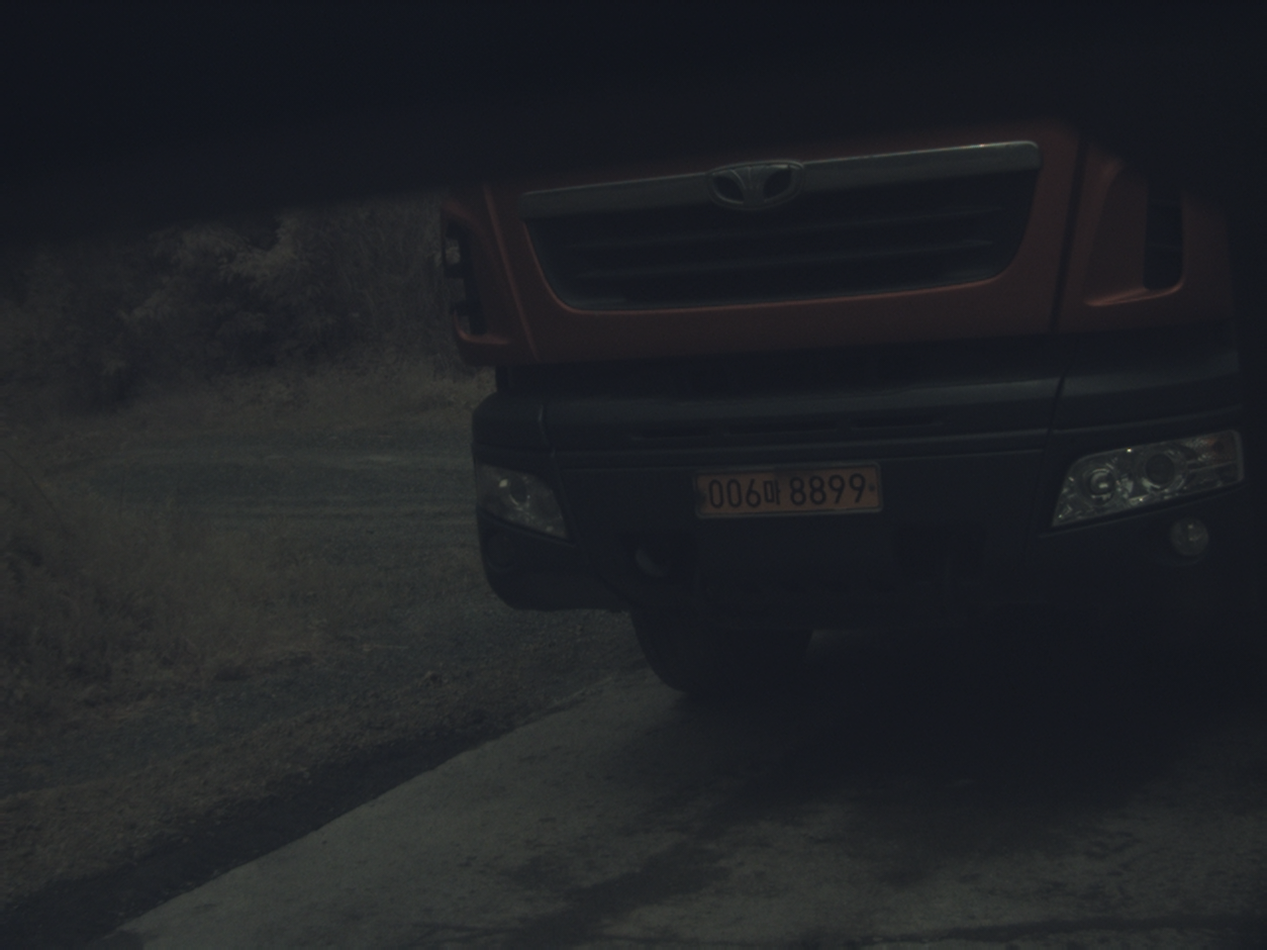license_plate: (695, 466, 878, 516)
truck: (443, 121, 1250, 692)
